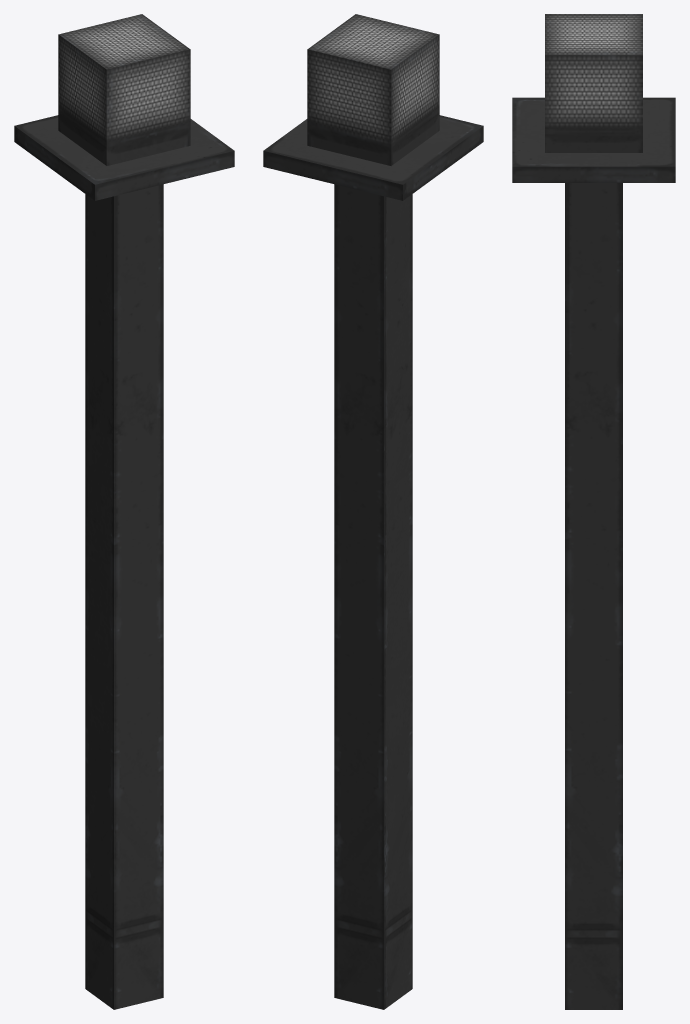
The model's file is HH_Obstruction_Lights_White.fbx.
3 views of the same model, side by side, from view 1: azimuth 30°, elevation 25°; view 2: azimuth 150°, elevation 25°; view 3: azimuth 270°, elevation 25° (orthographic).
Visible parts, largest first — view 1: HH_Obstruction_Lights_White; view 2: HH_Obstruction_Lights_White; view 3: HH_Obstruction_Lights_White.
Boxes of the visible parts, x1=… form: HH_Obstruction_Lights_White: x1=14, y1=14, x2=234, y2=1009; HH_Obstruction_Lights_White: x1=263, y1=14, x2=483, y2=1009; HH_Obstruction_Lights_White: x1=512, y1=14, x2=675, y2=1009.
Bounding box in the file's own units: 30.85 × 201 × 30.85.
